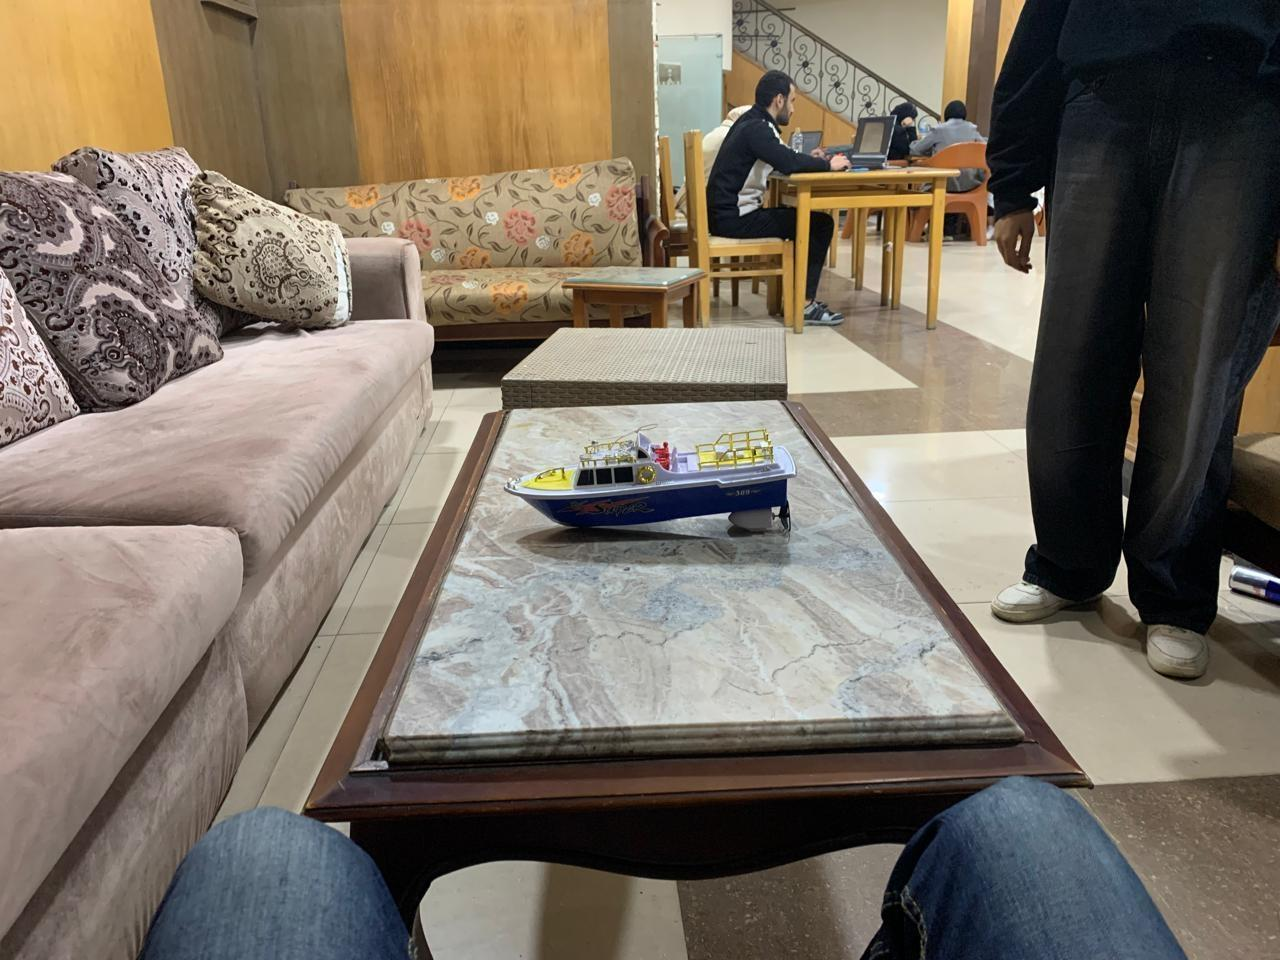Boat: (499, 427, 807, 538)
